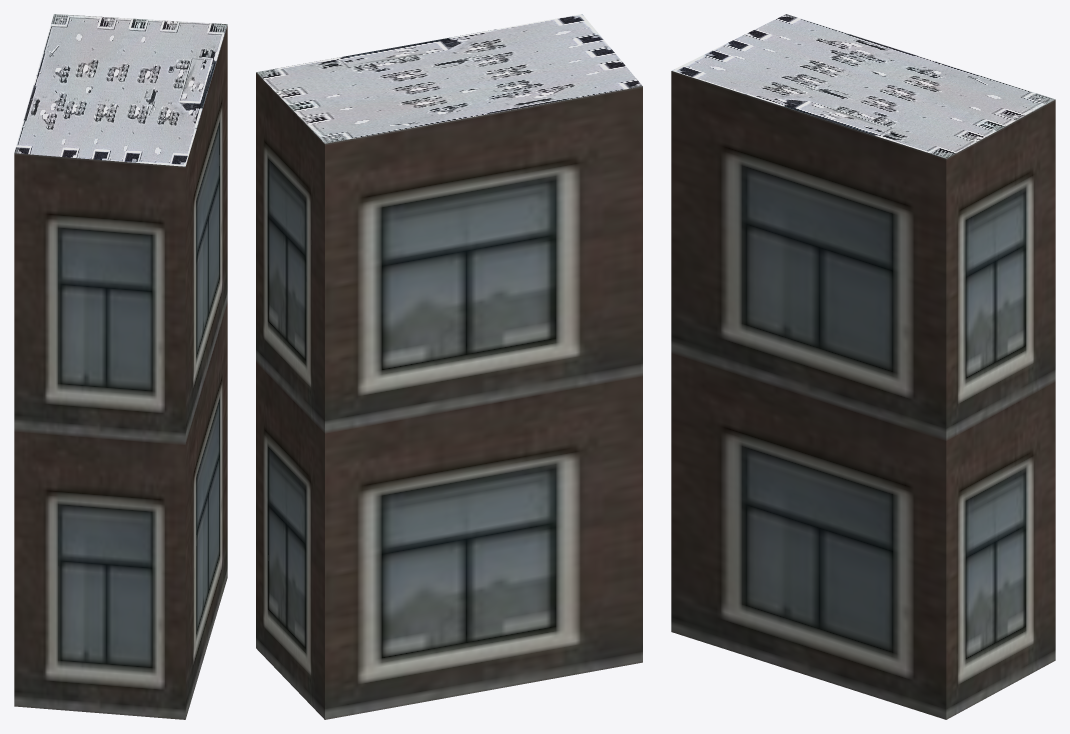
The model's file is ResTex__4455.fbx.
3 renders of one model, left to right at view 1: azimuth 30°, elevation 25°; view 2: azimuth 150°, elevation 25°; view 3: azimuth 270°, elevation 25°, orthographic. The views are drawn at different scales.
Visible parts, largest first — view 1: CityEngineMaterial_16_m, CityEngineMaterial_15_m; view 2: CityEngineMaterial_16_m, CityEngineMaterial_15_m; view 3: CityEngineMaterial_16_m, CityEngineMaterial_15_m.
Boxes of the visible parts, x1,y1,x2,y2 form: CityEngineMaterial_16_m: (14, 25, 227, 719); CityEngineMaterial_15_m: (14, 14, 227, 166); CityEngineMaterial_16_m: (256, 72, 642, 719); CityEngineMaterial_15_m: (256, 14, 642, 143); CityEngineMaterial_16_m: (671, 71, 1055, 719); CityEngineMaterial_15_m: (671, 14, 1054, 158).
Size of the model in its own units: 3.32 by 6 by 3.72.
Materials: 2 (2 with a texture image).
